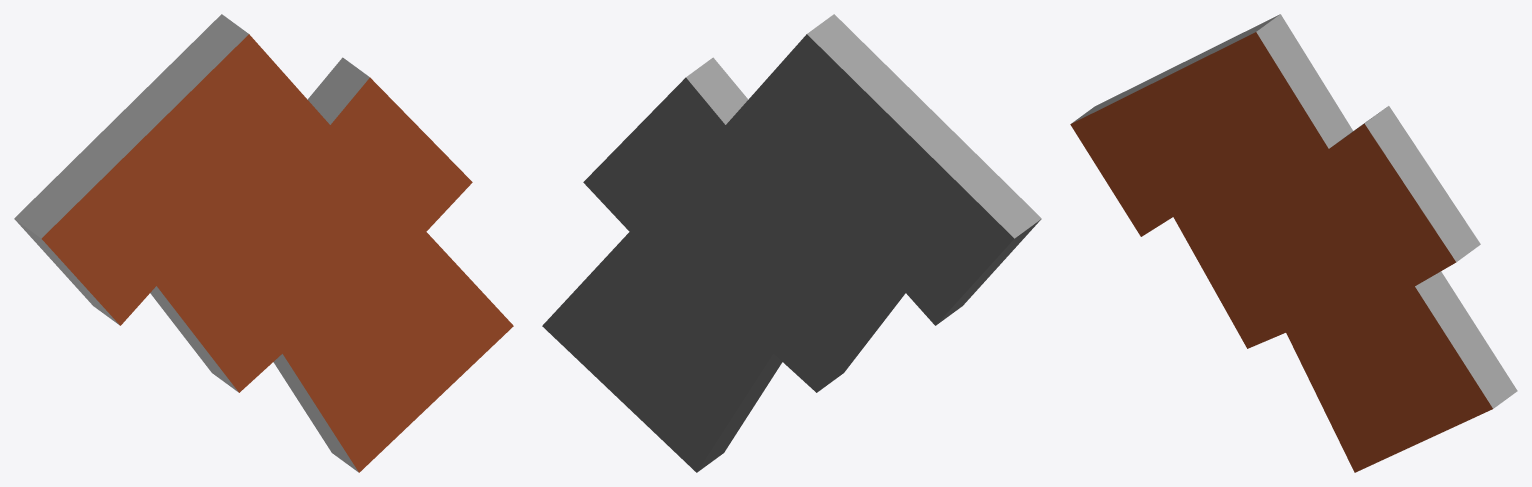
Rendered from construction_6413_actual_A_Casa_h6m.obj.
The picture shows the model from 3 angles, left to right: view 1: azimuth 30°, elevation 25°; view 2: azimuth 150°, elevation 25°; view 3: azimuth 330°, elevation 25°; orthographic projection. The views are drawn at different scales.
Visible parts, largest first — view 1: construction_6413_actual_A_Casa; view 2: construction_6413_actual_A_Casa; view 3: construction_6413_actual_A_Casa.
Part boxes in pixels (bbox=[...]): construction_6413_actual_A_Casa: bbox=[14, 14, 513, 472]; construction_6413_actual_A_Casa: bbox=[542, 14, 1041, 472]; construction_6413_actual_A_Casa: bbox=[1070, 14, 1517, 472].
Bounding box in the file's own units: 59.78 × 56.31 × 6.
